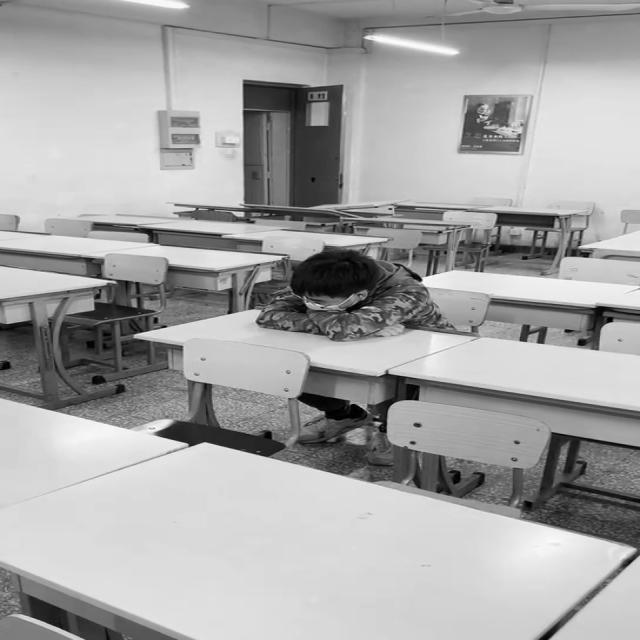sleep: (254, 251, 447, 340)
